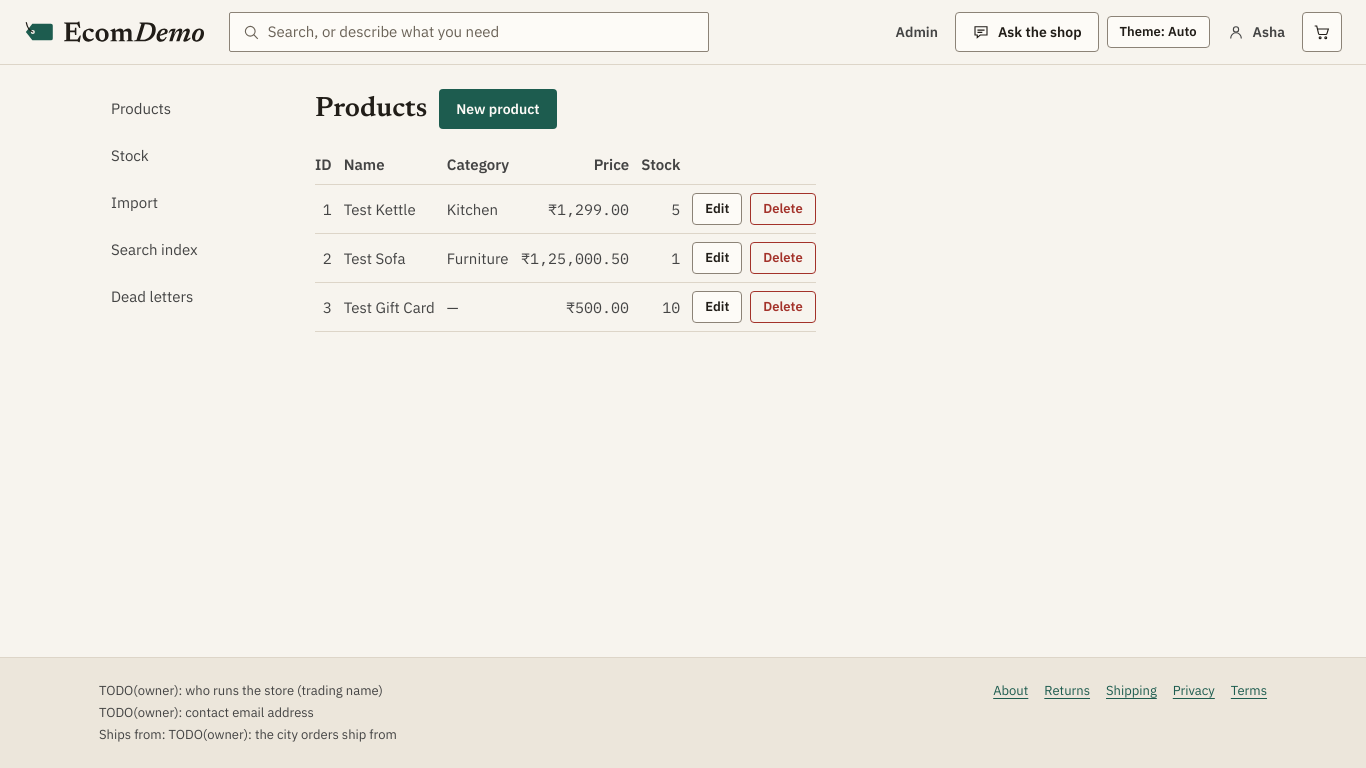
when a write fails › the delete notice can be dismissed
Click the button with aria-label "Delete Test Kettle". click: [783, 209]
box: [750,193,816,225]
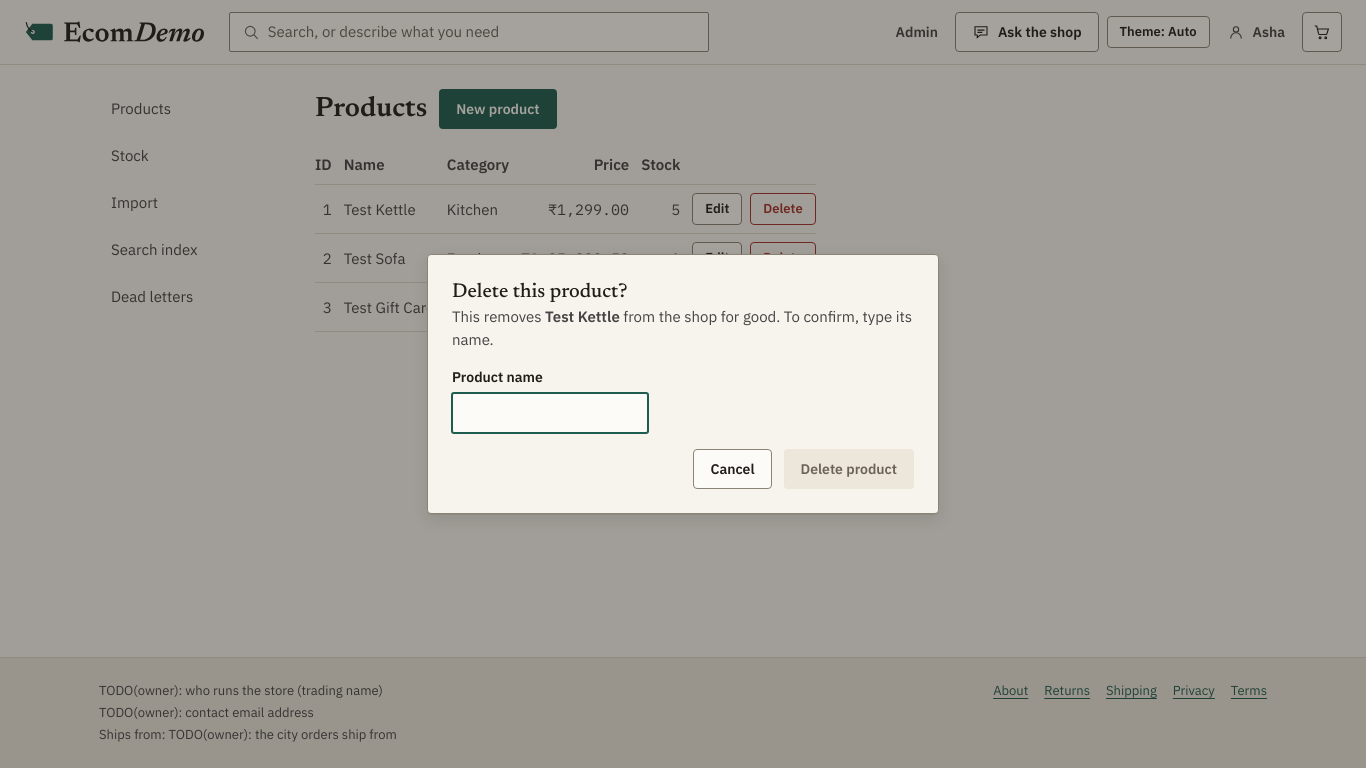
Type "Test Kettle" into the field labelled "Product name". click: [550, 413]
box: [465,394,635,432]
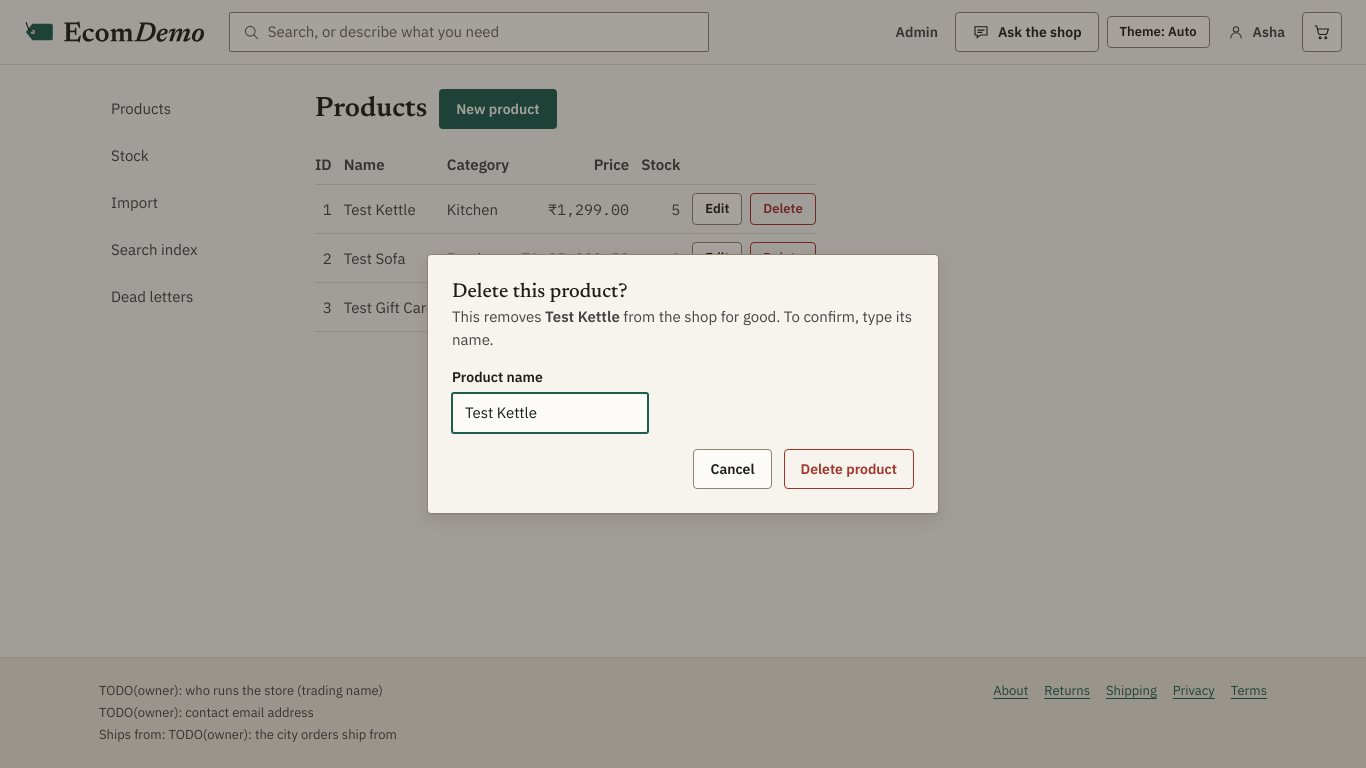
Click the button "Delete product". click: [849, 469]
box: [784,449,914,489]
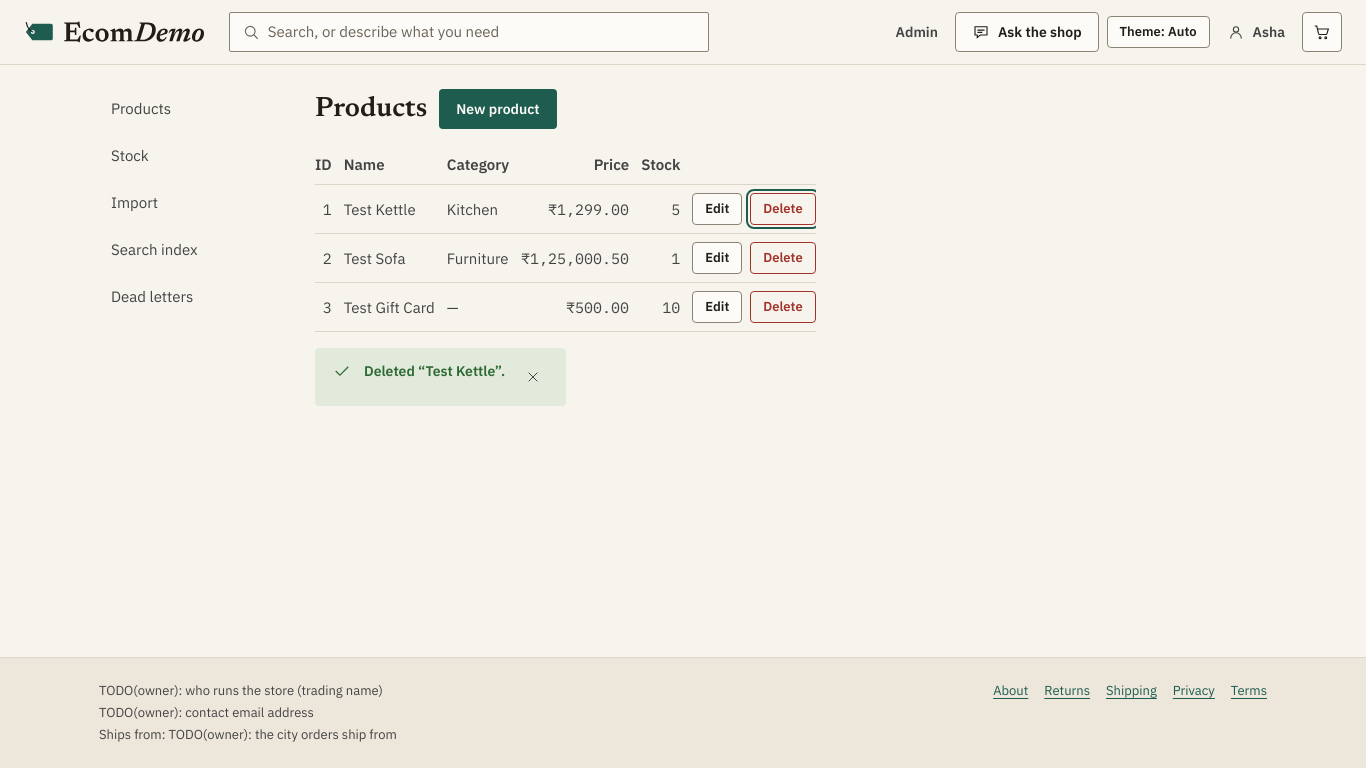
Click the button named "Dismiss". click: [533, 377]
box: [517,361,549,393]
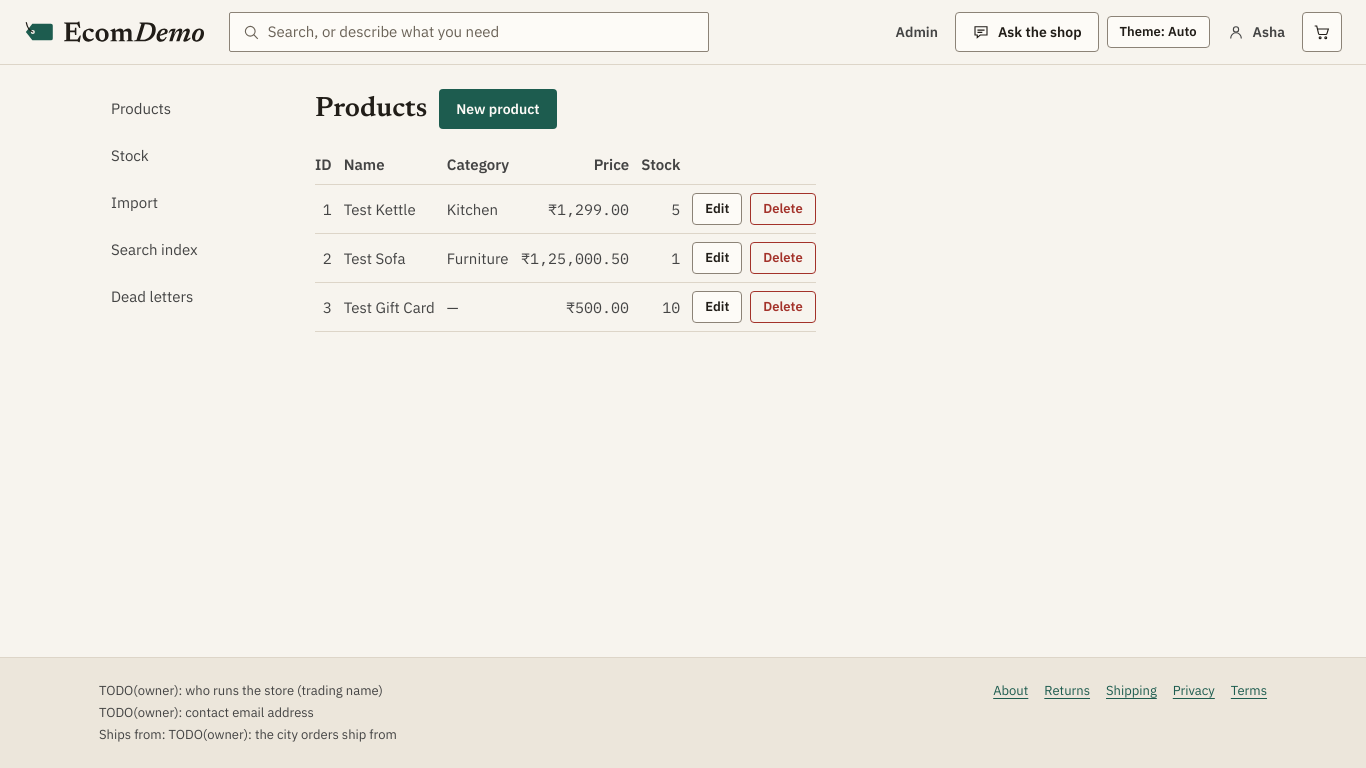
Now the text "Deleted “Test Kettle”." is gone
